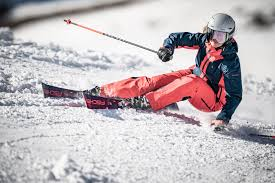skis: (39, 80, 220, 125)
